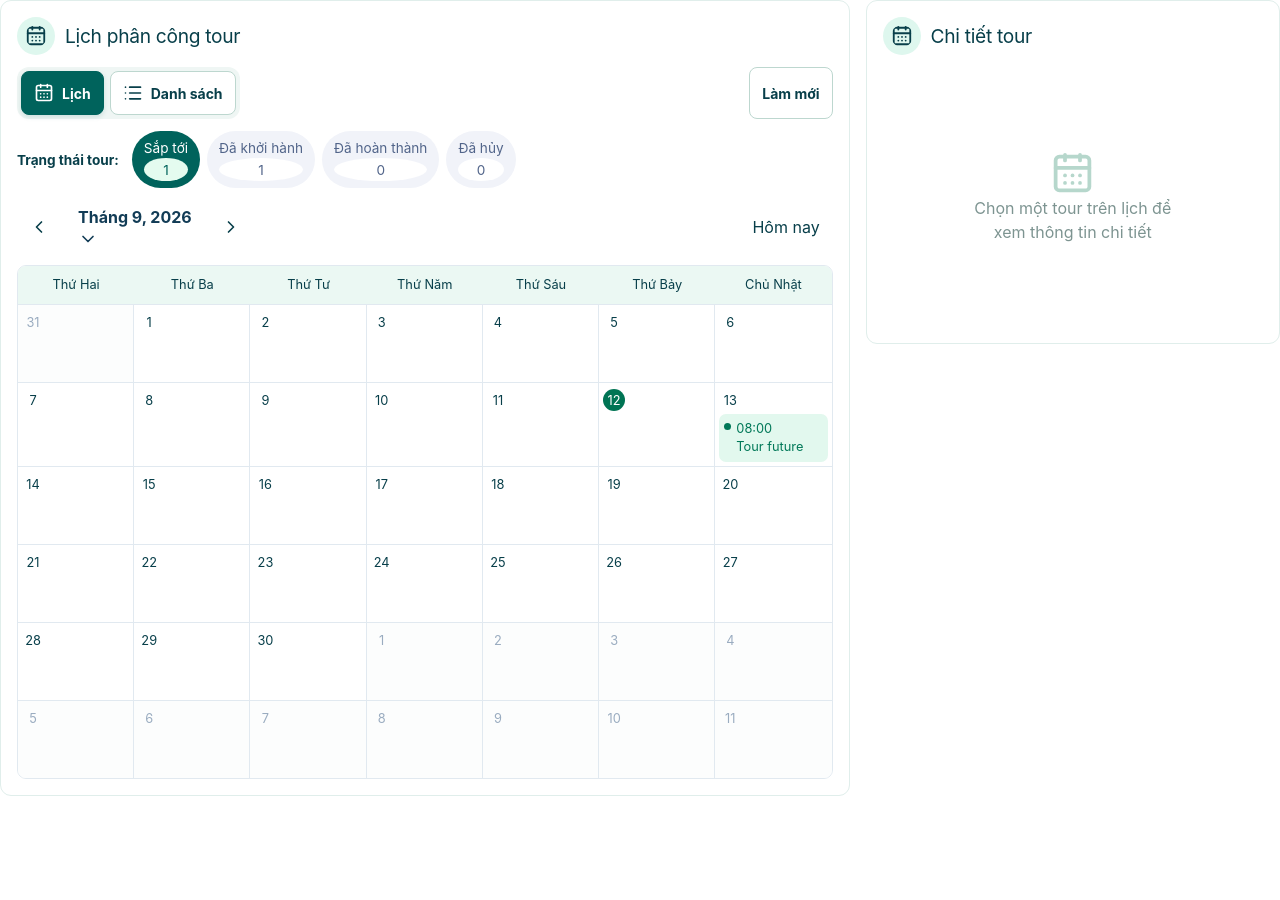
Test: UC-GUI02 month calendar › separates already-started assignments from upcoming without asserting completion
Expected: the button "Sắp tới 1" is shown, [132,131,200,188]
Click the button "Đã khởi hành 1" at (261, 160), box [207,131,315,188]
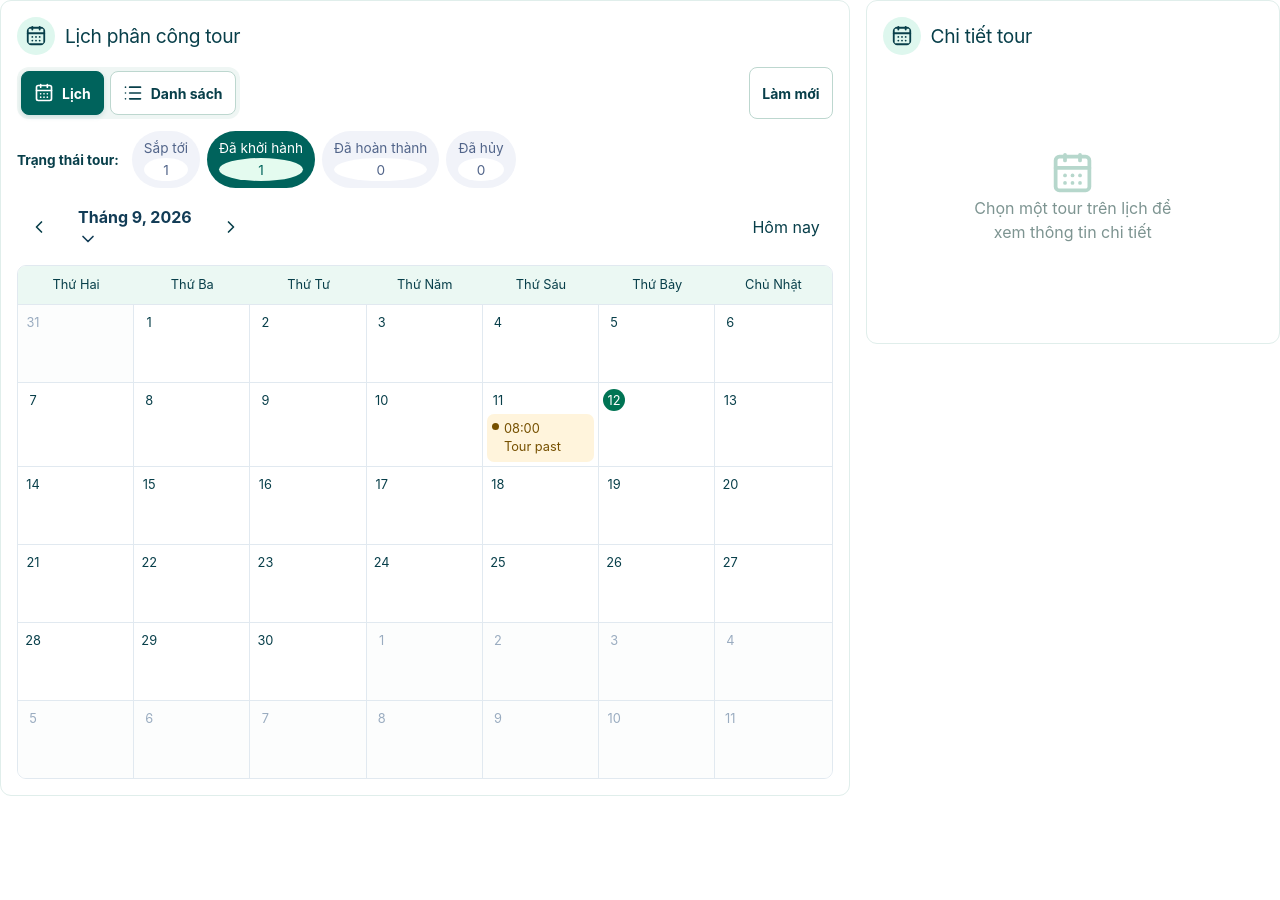
Expected: the button "Đã hoàn thành 0" is shown, [322,131,440,188]
Expected: the button "08:00 Tour past" is shown, [487,414,594,462]
Expected: the button "Tour future" is gone
